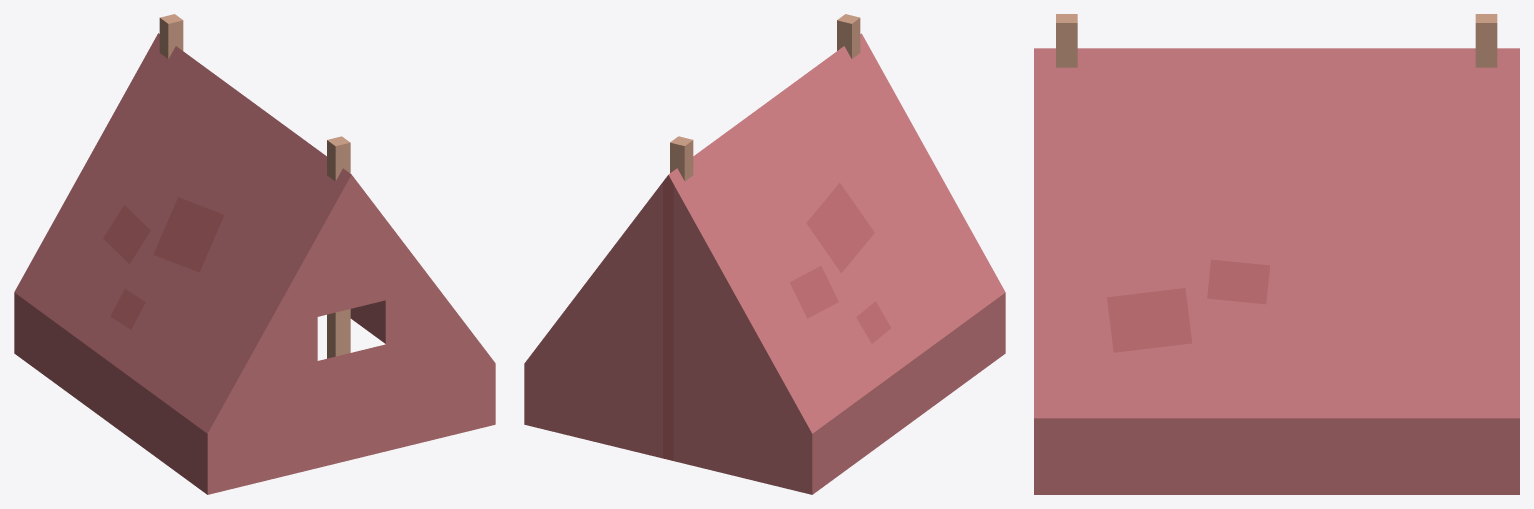
Rendered from tent_smallClosed.glb.
The picture shows the model from 3 angles, left to right: view 1: azimuth 30°, elevation 25°; view 2: azimuth 150°, elevation 25°; view 3: azimuth 270°, elevation 25°; orthographic projection. The views are drawn at different scales.
Visible parts, largest first — view 1: tent_smallClosed; view 2: tent_smallClosed; view 3: tent_smallClosed.
Boxes of the visible parts, x1,y1,x2,y2 form: tent_smallClosed: [14, 14, 495, 494]; tent_smallClosed: [524, 14, 1005, 494]; tent_smallClosed: [1034, 14, 1519, 494].
Size of the model in its own units: 0.5476 by 0.5611 by 0.6364.
